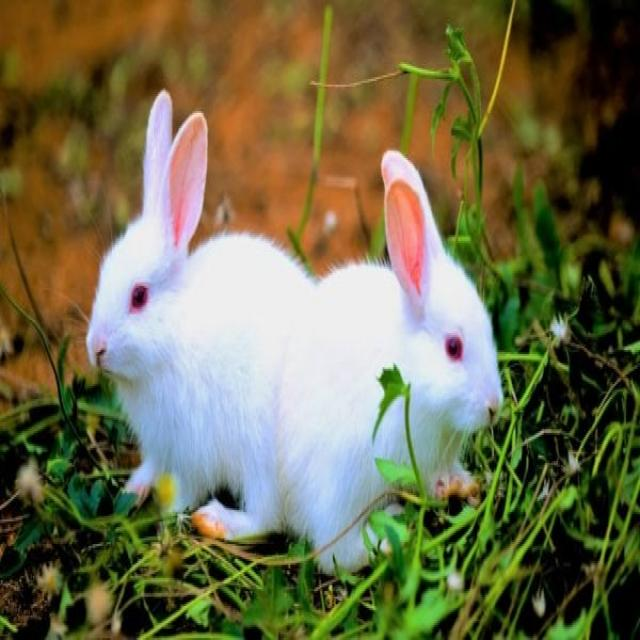Animals: (69, 69, 279, 430), (324, 135, 516, 484)
